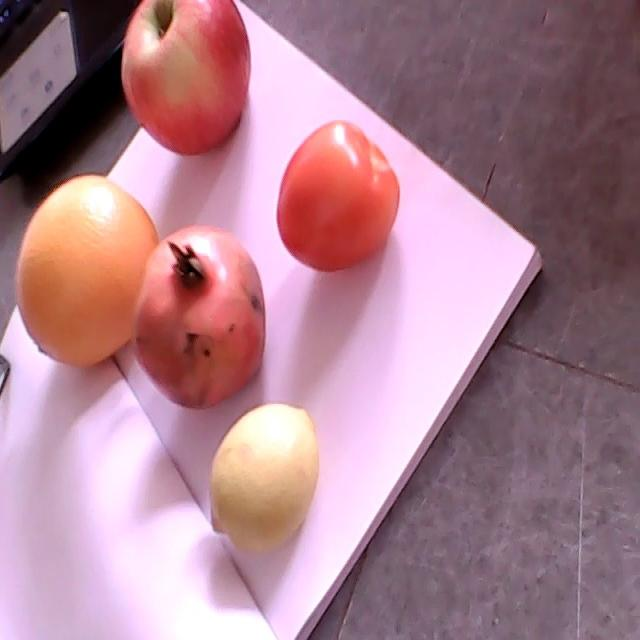apple: (122, 0, 252, 156)
lemon: (210, 403, 320, 557)
orange: (14, 174, 161, 368)
pomegranate: (133, 225, 265, 411)
tomato: (277, 119, 400, 271)
